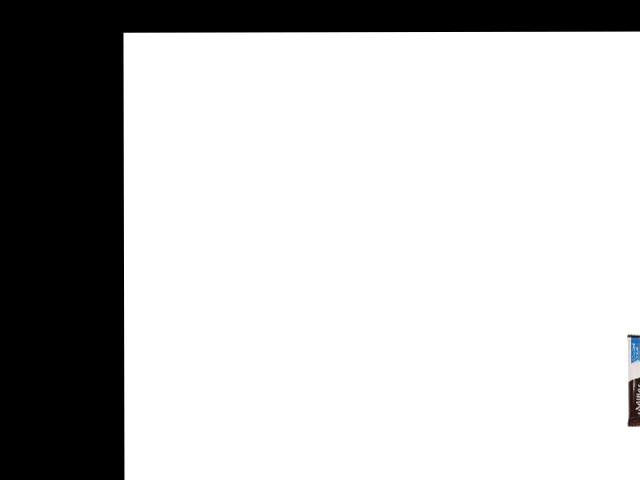chocolate: (625, 333, 640, 425)
